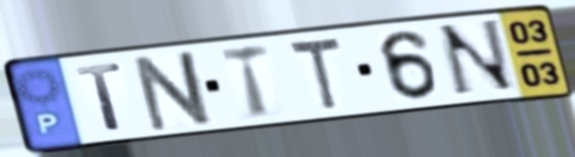6: (376, 28, 442, 103)
N: (131, 46, 219, 134), (433, 16, 522, 101)
T: (285, 34, 346, 113), (217, 41, 274, 121), (72, 60, 127, 133)
